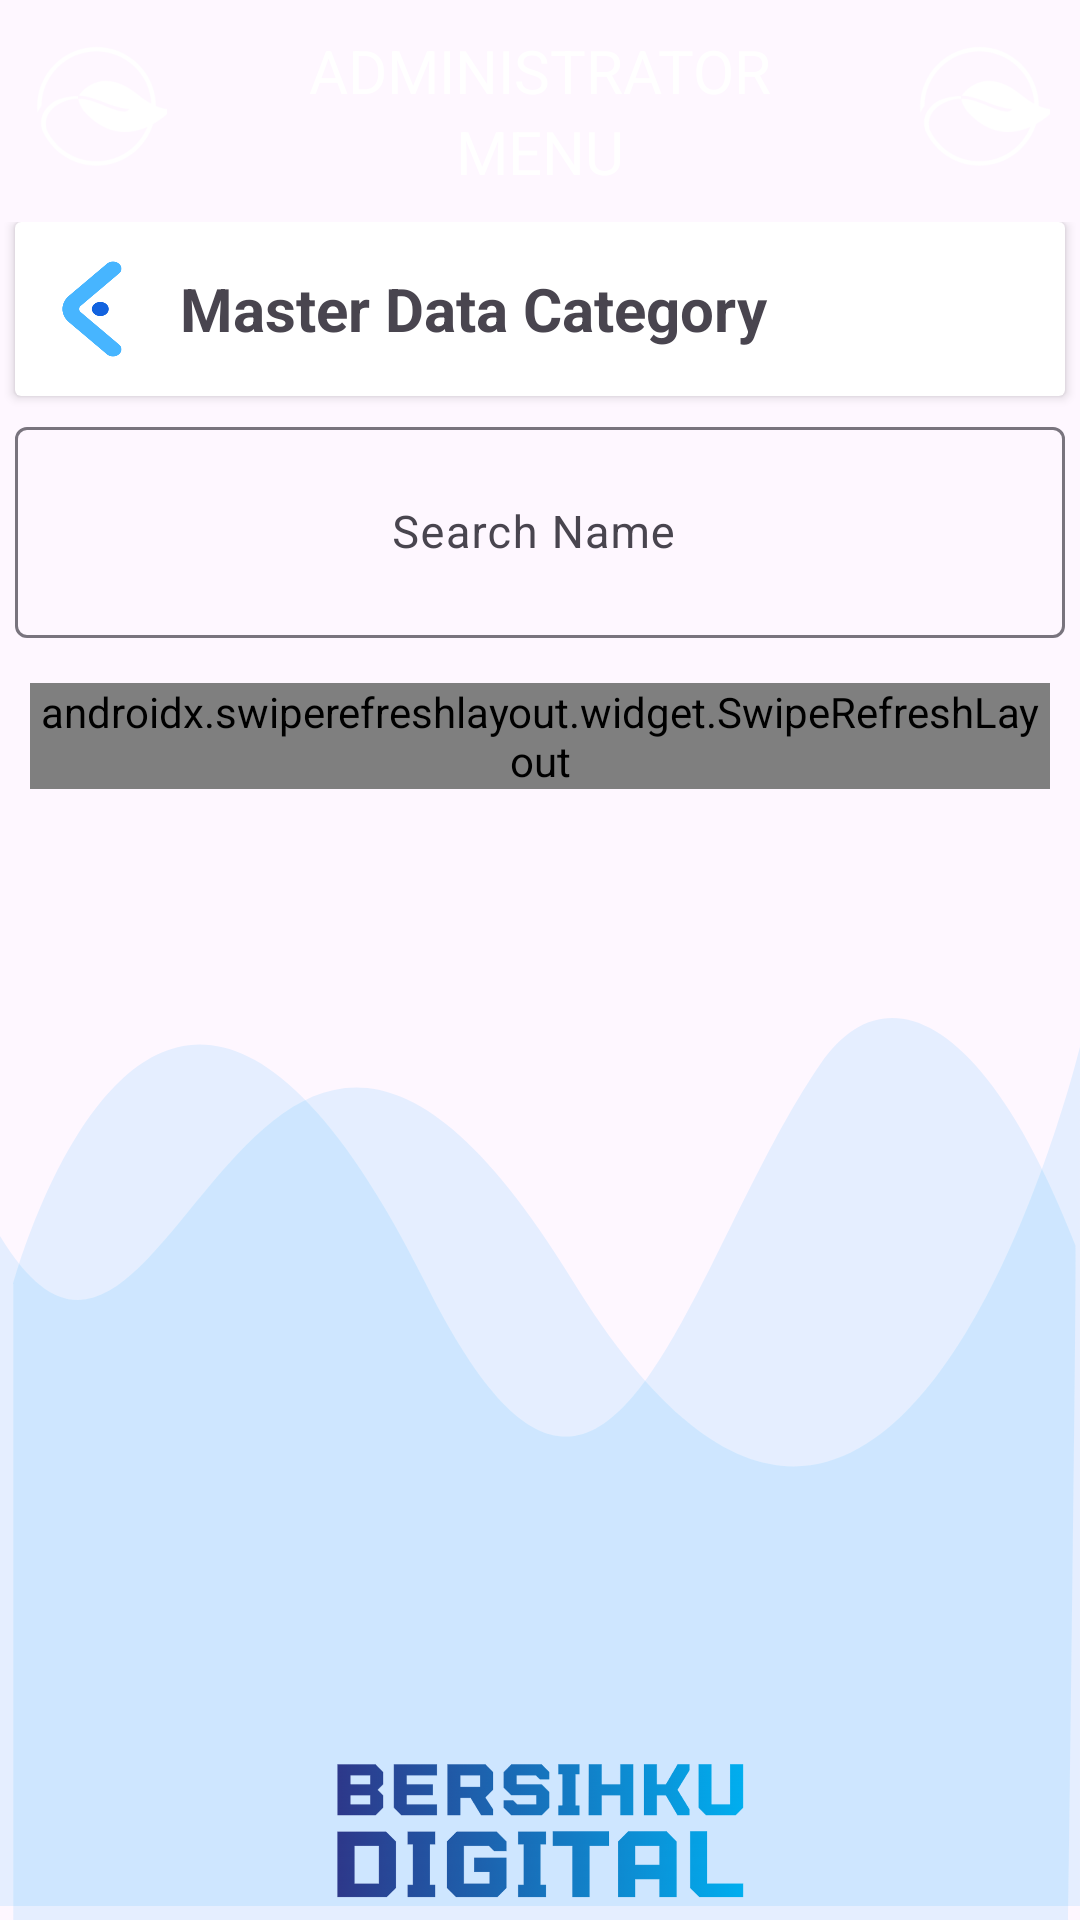

Icon click points for this 1080×1920 phone screenshot, format point (x, y):
back: point (92, 309)
